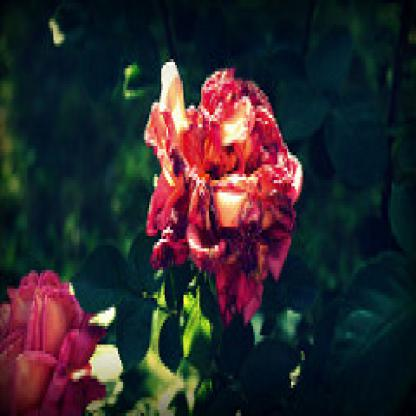Rose-Mawar: (136, 38, 306, 333)
